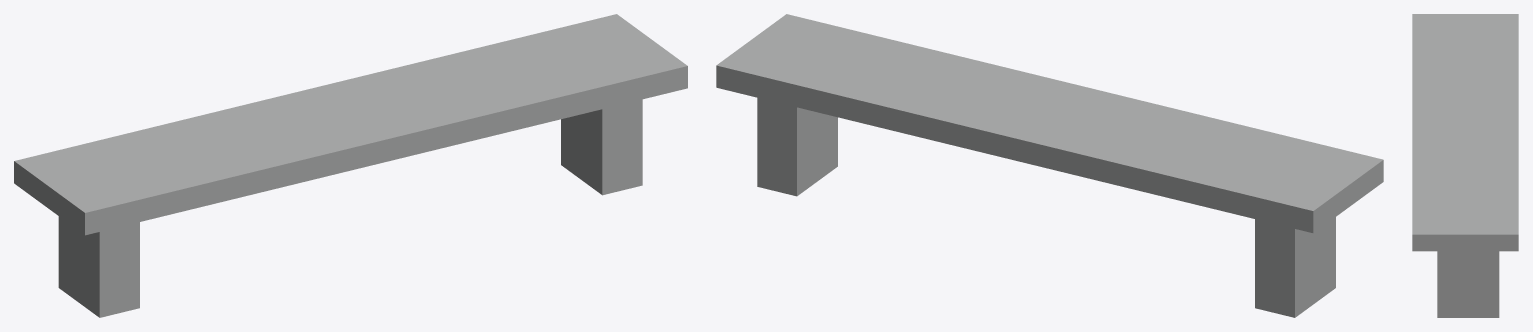
The model's file is bench3.FBX.
The picture shows the model from 3 angles, left to right: view 1: azimuth 30°, elevation 25°; view 2: azimuth 150°, elevation 25°; view 3: azimuth 270°, elevation 25°; orthographic projection. The views are drawn at different scales.
Parts seen in each view (by area): view 1: bench3; view 2: bench3; view 3: bench3.
Part boxes in pixels (x1,y1,x2,y2): bench3: [14, 14, 687, 317]; bench3: [716, 14, 1383, 317]; bench3: [1412, 14, 1518, 317].
Size of the model in its own units: 9.77 by 1.94 by 1.99.
